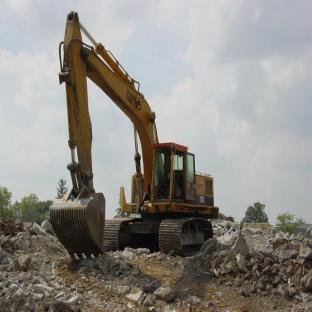ExcavationMachinery: (49, 12, 237, 267)
